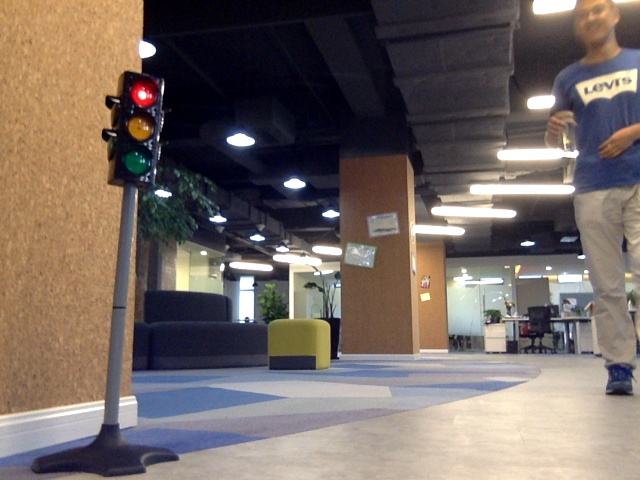red: (121, 76, 155, 176)
